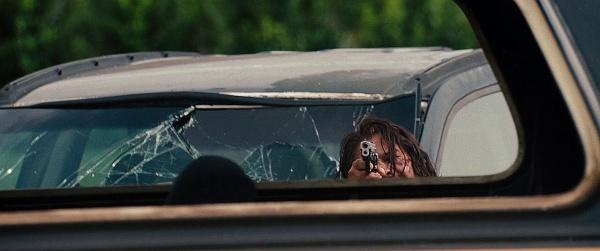Gun: (361, 140, 379, 175)
